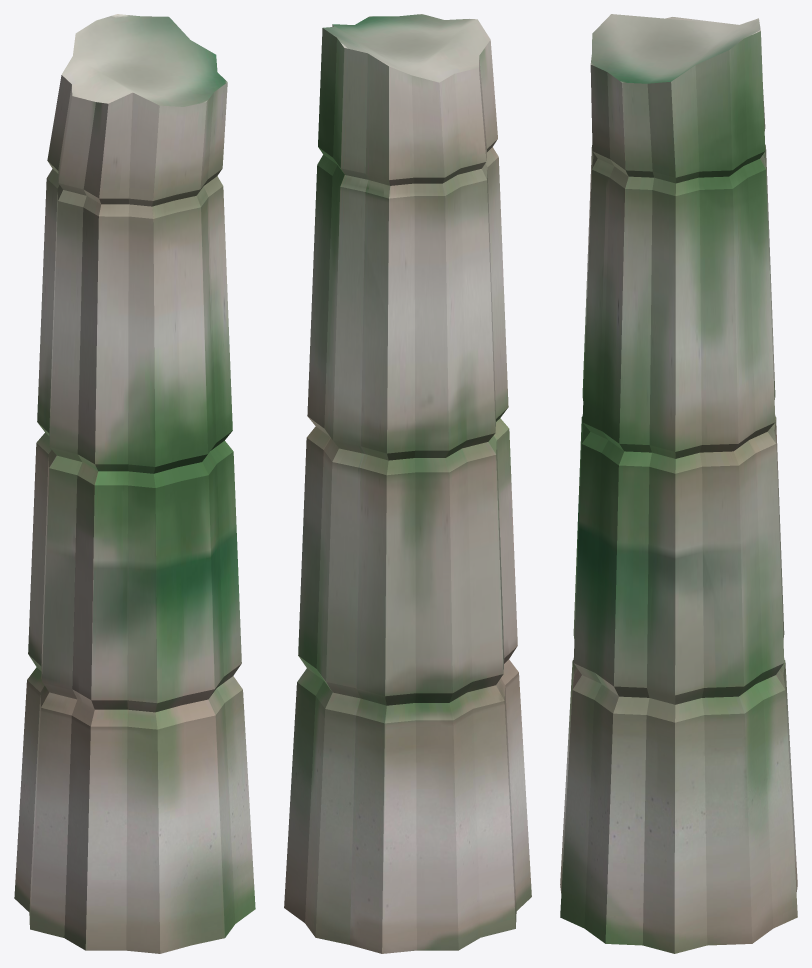
Rendered from 青苔柱子大.fbx.
3 views of the same model, side by side, from view 1: azimuth 30°, elevation 25°; view 2: azimuth 150°, elevation 25°; view 3: azimuth 270°, elevation 25° (orthographic). The views are drawn at different scales.
Visible parts, largest first — view 1: 青苔柱子大.001; view 2: 青苔柱子大.001; view 3: 青苔柱子大.001.
Boxes of the visible parts, box(x1,y1,x2,y2) form: 青苔柱子大.001: box(14, 14, 255, 953); 青苔柱子大.001: box(284, 14, 531, 953); 青苔柱子大.001: box(560, 14, 797, 953).
Bounding box in the file's own units: 171 × 664 × 162.
Materials: 1 (1 with a texture image).
